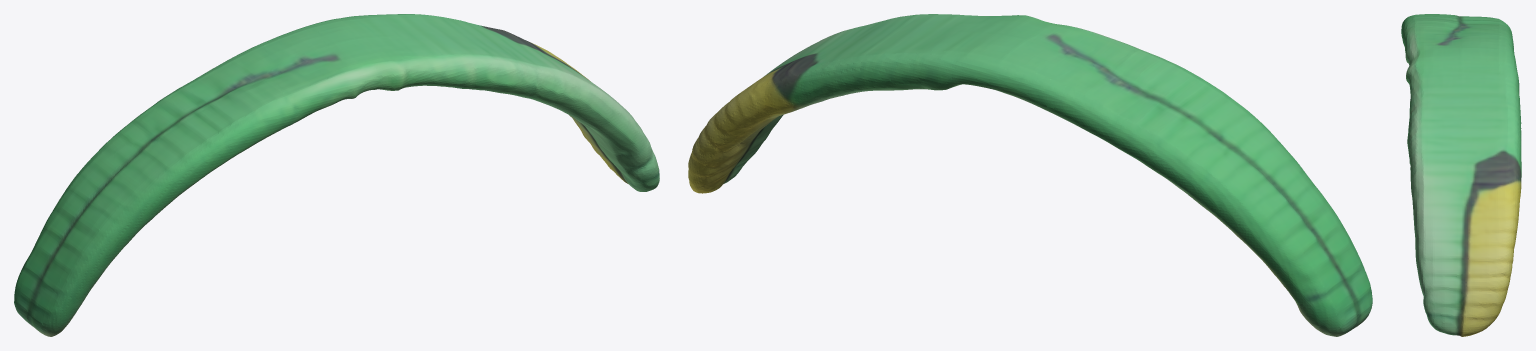
File: paragliding-paraglider.glb
The picture shows the model from 3 angles, left to right: view 1: azimuth 30°, elevation 25°; view 2: azimuth 150°, elevation 25°; view 3: azimuth 270°, elevation 25°; orthographic projection. The views are drawn at different scales.
Parts seen in each view (by area): view 1: world; view 2: world; view 3: world.
Boxes of the visible parts, left/top/right/bottom form: world: left=14, top=14, right=659, bottom=336; world: left=688, top=14, right=1372, bottom=336; world: left=1401, top=14, right=1521, bottom=336.
Bounding box in the file's own units: 0.9955 × 0.3277 × 0.2084.
